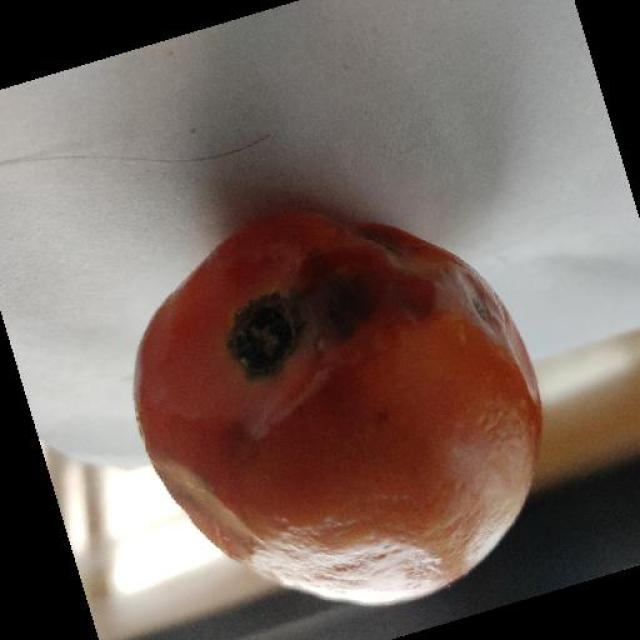Stale_tomato: (106, 203, 556, 593)
